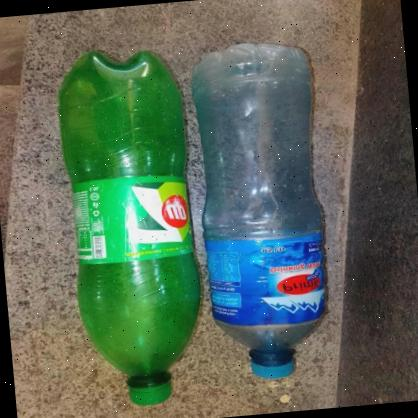bottle: (52, 41, 208, 410), (188, 38, 338, 384)
cap: (249, 353, 300, 380), (128, 378, 173, 407)
label: (206, 224, 332, 328), (68, 167, 192, 268)
